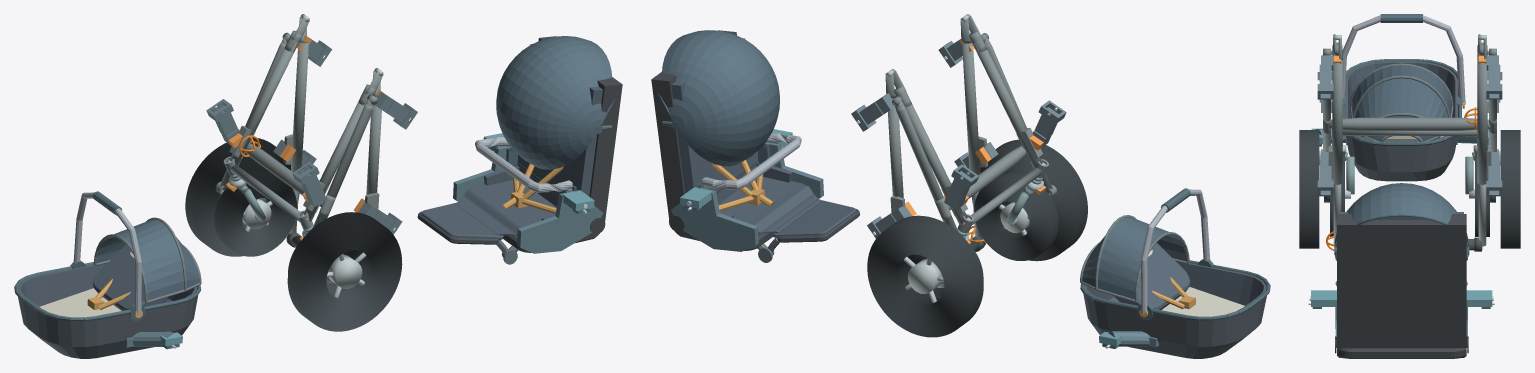
Rendered from D06_w550_state3_wheel_L.glb.
The picture shows the model from 3 angles, left to right: view 1: azimuth 30°, elevation 25°; view 2: azimuth 150°, elevation 25°; view 3: azimuth 270°, elevation 25°; orthographic projection. The views are drawn at different scales.
Visible parts, largest first — view 1: D06_Lower, D06_Upper, RL_tire.004, FR_tire.004, D06_Lower_Mount_L, RR_tire.004, main_upper_1.005, main_lower_1.005, V46_rear_leg_-1.005, main_lower_-1.005, main_upper_-1.005, V46_rearbar.005 (+9 smaller); view 2: D06_Lower, D06_Upper, RR_tire.004, FL_tire.004, D06_Lower_Mount_L, RL_tire.004, main_upper_-1.005, main_lower_-1.005, V46_rear_leg_1.005, main_lower_1.005, main_upper_1.005, V46_rearbar.005 (+9 smaller); view 3: D06_Lower, D06_Upper, RL_tire.004, RR_tire.004, V46_rearbar.005, main_upper_1.005, main_upper_-1.005, D06_Lower_Mount_L, front_fixed_round_tube.004, Universal_Cabin_Receiver_M_-1, Universal_Cabin_Receiver_M_1, Universal_Cabin_Receiver_H_1 (+10 smaller).
Part boxes in pixels (left/top/right/bottom): D06_Lower: left=417, top=36, right=622, bottom=264; D06_Upper: left=14, top=191, right=201, bottom=358; RL_tire.004: left=287, top=212, right=402, bottom=331; FR_tire.004: left=214, top=170, right=297, bottom=256; D06_Lower_Mount_L: left=453, top=133, right=603, bottom=253; RR_tire.004: left=185, top=137, right=299, bottom=256; main_upper_1.005: left=291, top=42, right=308, bottom=172; main_lower_1.005: left=230, top=42, right=297, bottom=165; V46_rear_leg_-1.005: left=312, top=104, right=373, bottom=228; main_lower_-1.005: left=303, top=102, right=366, bottom=221; main_upper_-1.005: left=366, top=97, right=381, bottom=194; V46_rearbar.005: left=246, top=143, right=323, bottom=206; D06_Lower: left=651, top=30, right=859, bottom=262; D06_Upper: left=1080, top=188, right=1270, bottom=358; RR_tire.004: left=867, top=215, right=983, bottom=337; FL_tire.004: left=974, top=173, right=1058, bottom=260; D06_Lower_Mount_L: left=671, top=129, right=823, bottom=251; RL_tire.004: left=972, top=139, right=1087, bottom=261; main_upper_-1.005: left=962, top=43, right=980, bottom=174; main_lower_-1.005: left=973, top=43, right=1042, bottom=168; V46_rear_leg_1.005: left=896, top=105, right=958, bottom=231; main_lower_1.005: left=902, top=102, right=967, bottom=225; main_upper_1.005: left=888, top=98, right=903, bottom=198; V46_rearbar.005: left=947, top=145, right=1026, bottom=210; D06_Lower: left=1334, top=183, right=1469, bottom=358; D06_Upper: left=1342, top=14, right=1465, bottom=181; RL_tire.004: left=1299, top=130, right=1319, bottom=248; RR_tire.004: left=1500, top=130, right=1520, bottom=248; V46_rearbar.005: left=1329, top=117, right=1490, bottom=130; main_upper_1.005: left=1477, top=60, right=1487, bottom=184; main_upper_-1.005: left=1332, top=60, right=1342, bottom=184; D06_Lower_Mount_L: left=1308, top=290, right=1494, bottom=347; front_fixed_round_tube.004: left=1342, top=129, right=1477, bottom=135; Universal_Cabin_Receiver_M_-1: left=1317, top=55, right=1333, bottom=99; Universal_Cabin_Receiver_M_1: left=1486, top=55, right=1502, bottom=99; Universal_Cabin_Receiver_H_1: left=1486, top=152, right=1502, bottom=196.
Size of the model in its own units: 1.96 by 0.7725 by 0.671.
